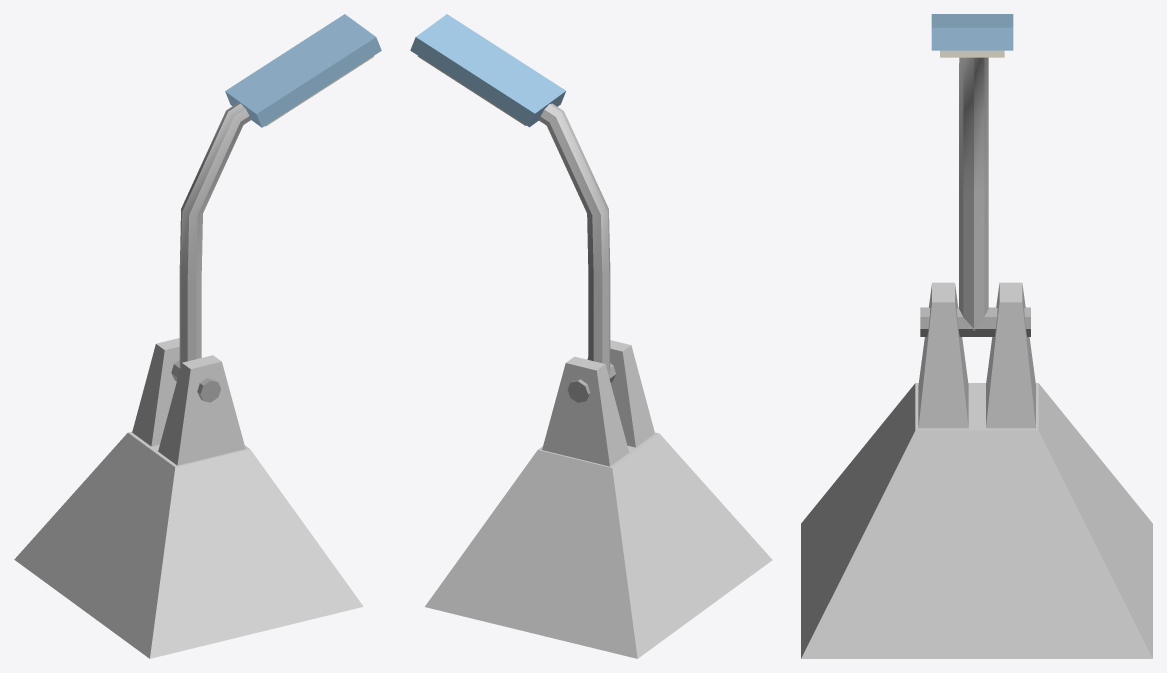
File: lamp_2.fbx
3 views of the same model, side by side, from view 1: azimuth 30°, elevation 25°; view 2: azimuth 150°, elevation 25°; view 3: azimuth 270°, elevation 25° (orthographic). The views are drawn at different scales.
Visible parts, largest first — view 1: Cylinder_2, Cylinder; view 2: Cylinder_2, Cylinder; view 3: Cylinder_2, Cylinder.
Part boxes in pixels (x1,y1,x2,y2): Cylinder_2: (14, 338, 363, 658); Cylinder: (179, 14, 381, 368); Cylinder_2: (425, 340, 772, 658); Cylinder: (410, 14, 610, 375); Cylinder_2: (801, 282, 1152, 658); Cylinder: (931, 14, 1013, 330).
Size of the model in its own units: 77.57 by 136 by 64.59.
